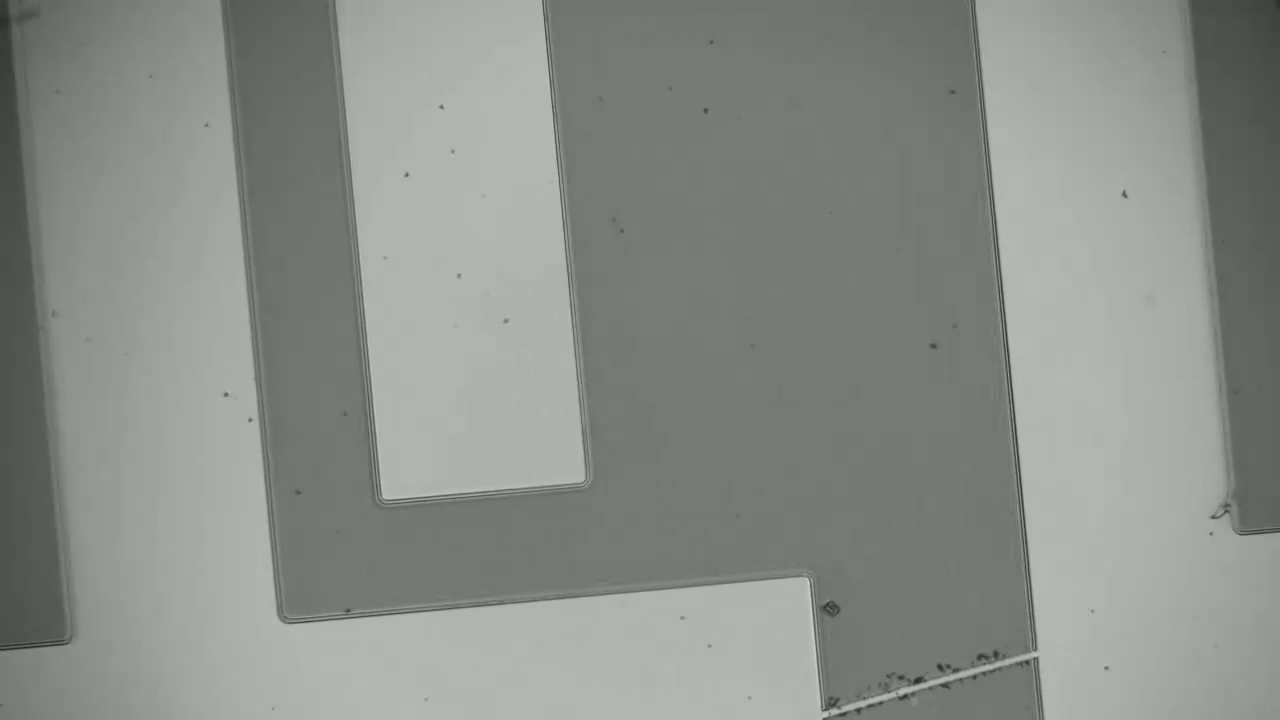scratch: (833, 656, 1035, 714)
